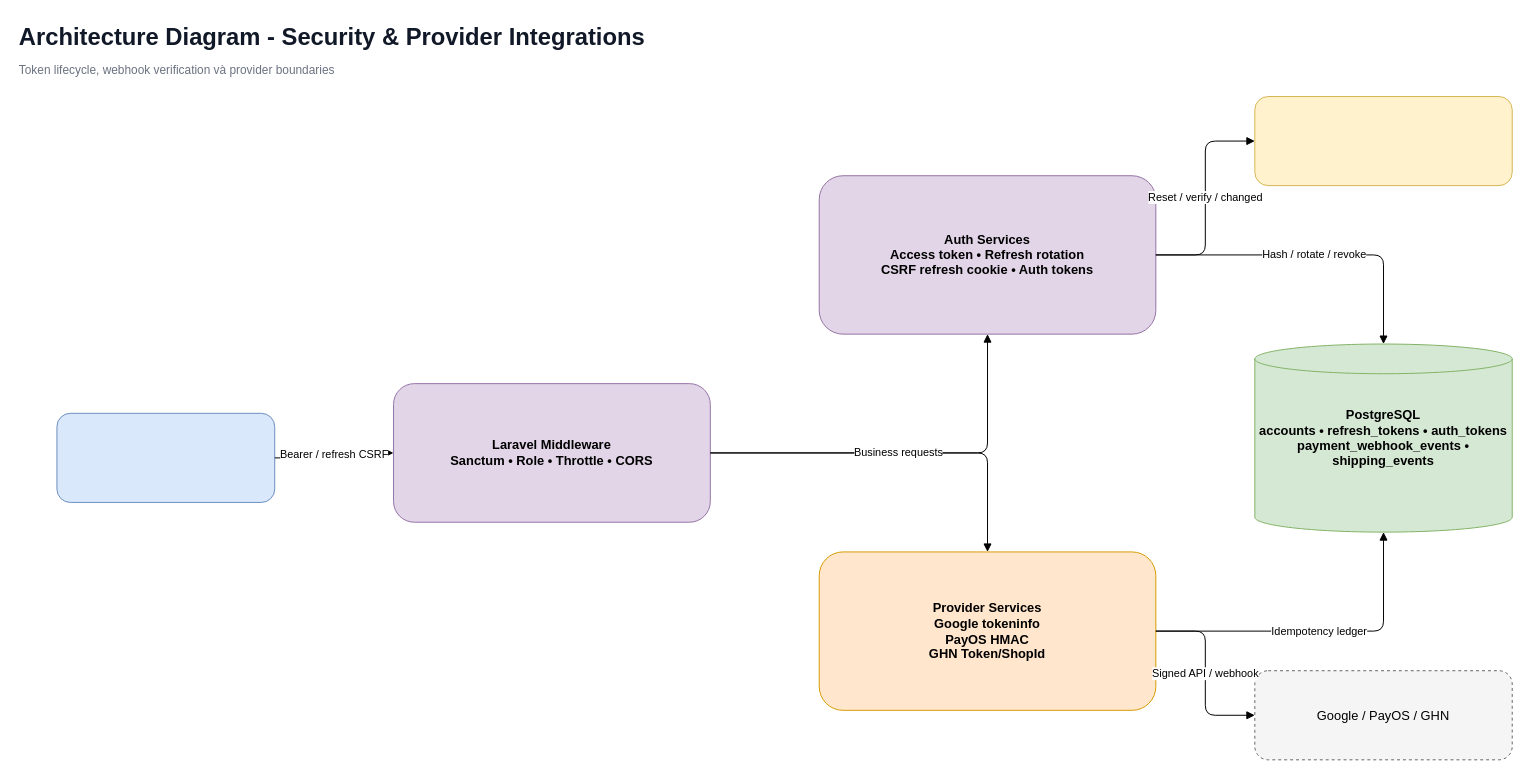
The diagram is 1530 pixels wide and 777 high, and some of its shapes have lost their labels. The centre of each missing label's shape, as x and y in pixels:
Mail Outbox: (1383,141)
React SPA: (165,457)
